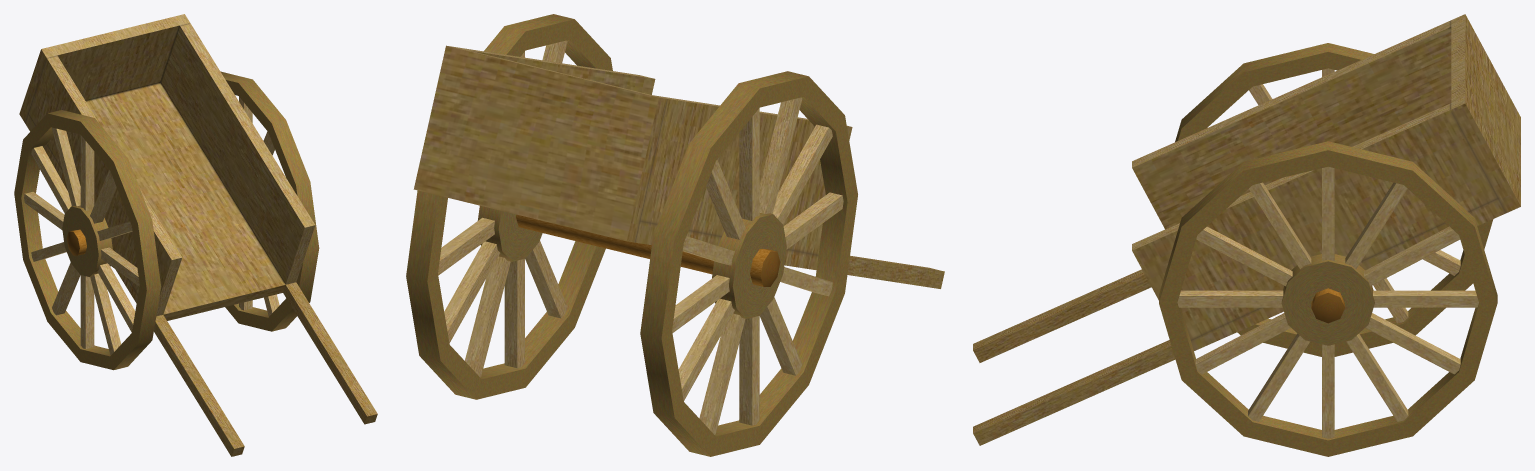
The model's file is WheelBarrow.fbx.
3 views of the same model, side by side, from view 1: azimuth 30°, elevation 25°; view 2: azimuth 150°, elevation 25°; view 3: azimuth 270°, elevation 25° (orthographic). The views are drawn at different scales.
Visible parts, largest first — view 1: WheelBarrow; view 2: WheelBarrow; view 3: WheelBarrow.
Boxes of the visible parts, x1,y1,x2,y2 form: WheelBarrow: [14, 14, 377, 456]; WheelBarrow: [406, 14, 944, 456]; WheelBarrow: [973, 14, 1520, 456].
Bounding box in the file's own units: 3.4 × 4.49 × 6.47.
